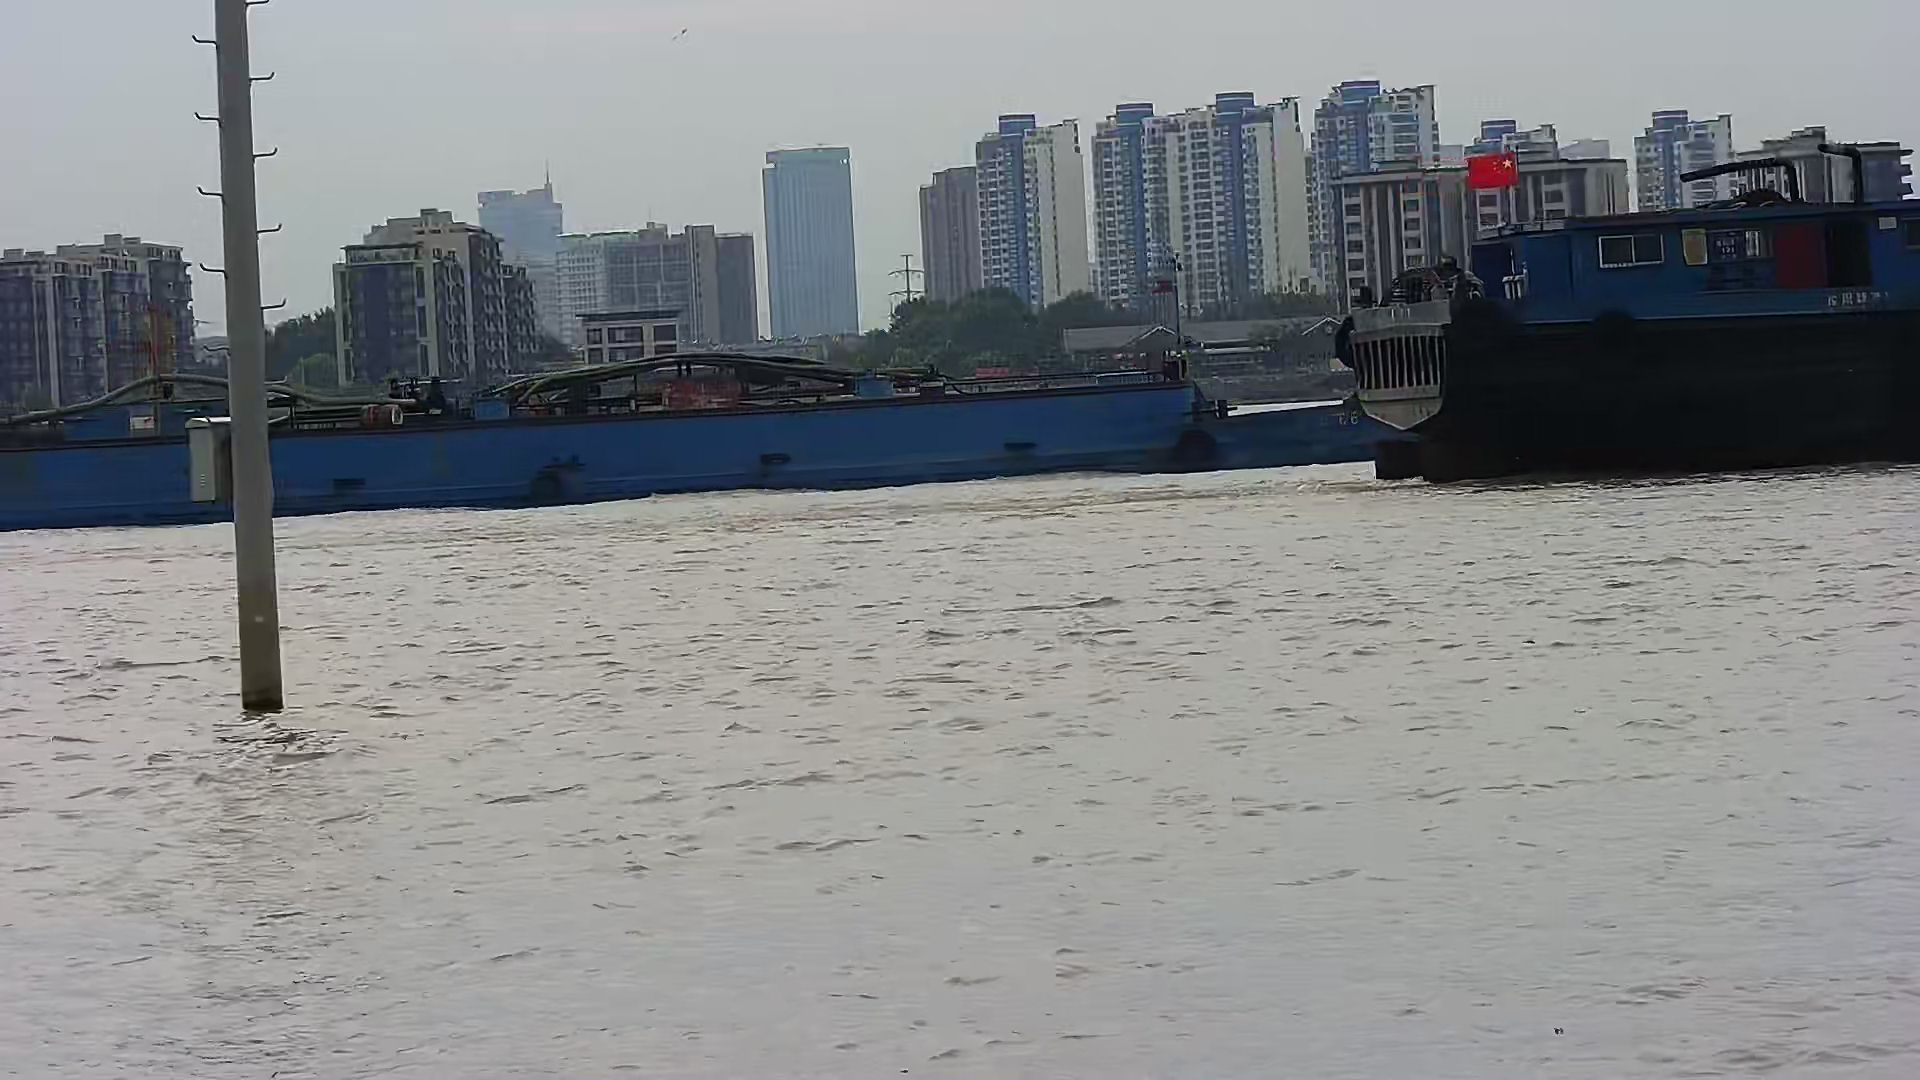mast: (189, 1, 285, 713)
ship: (1, 330, 1353, 533), (1342, 193, 1920, 481)
